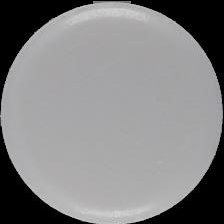50268-687: (0, 0, 224, 224)
